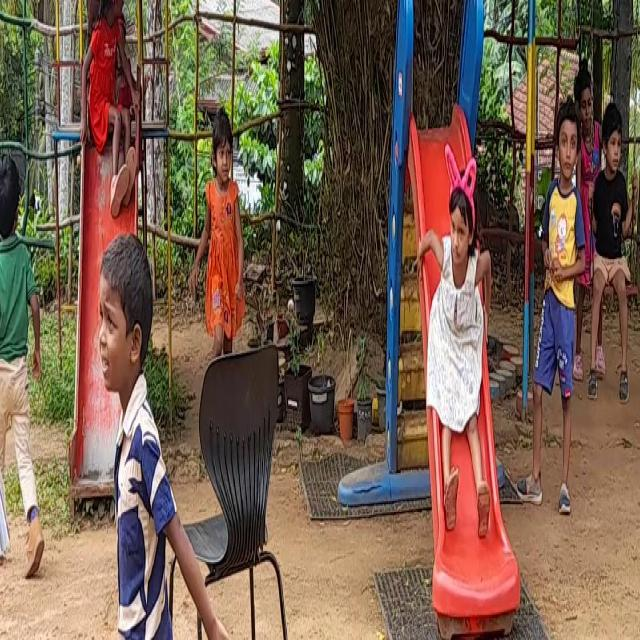child: (77, 234, 196, 640), (424, 162, 492, 550), (0, 164, 52, 577), (536, 76, 576, 564), (598, 83, 640, 429), (197, 97, 250, 365), (88, 0, 138, 215)
